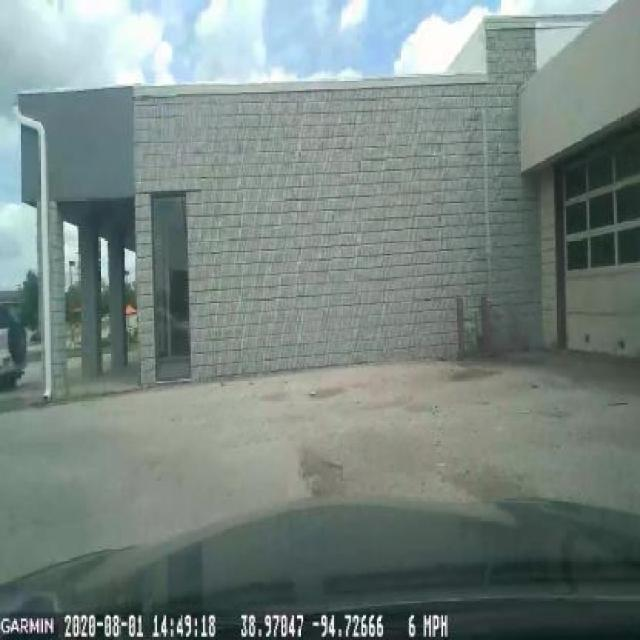Pothole: (296, 440, 346, 502)
